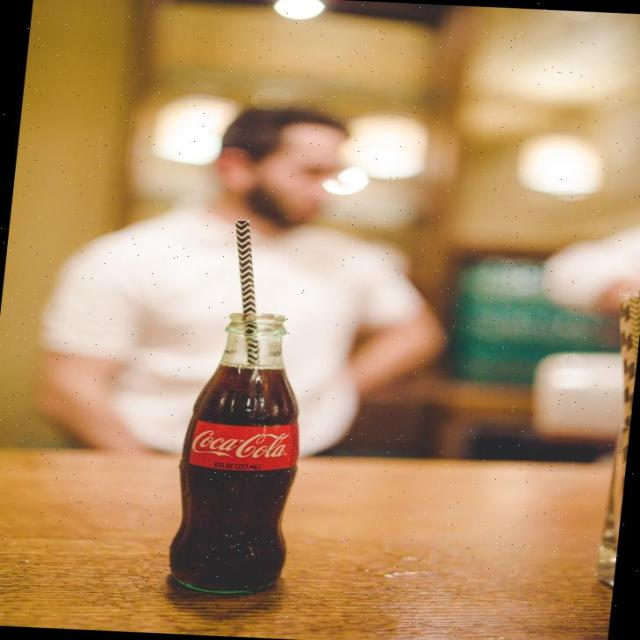coca-cola: (156, 301, 322, 607)
